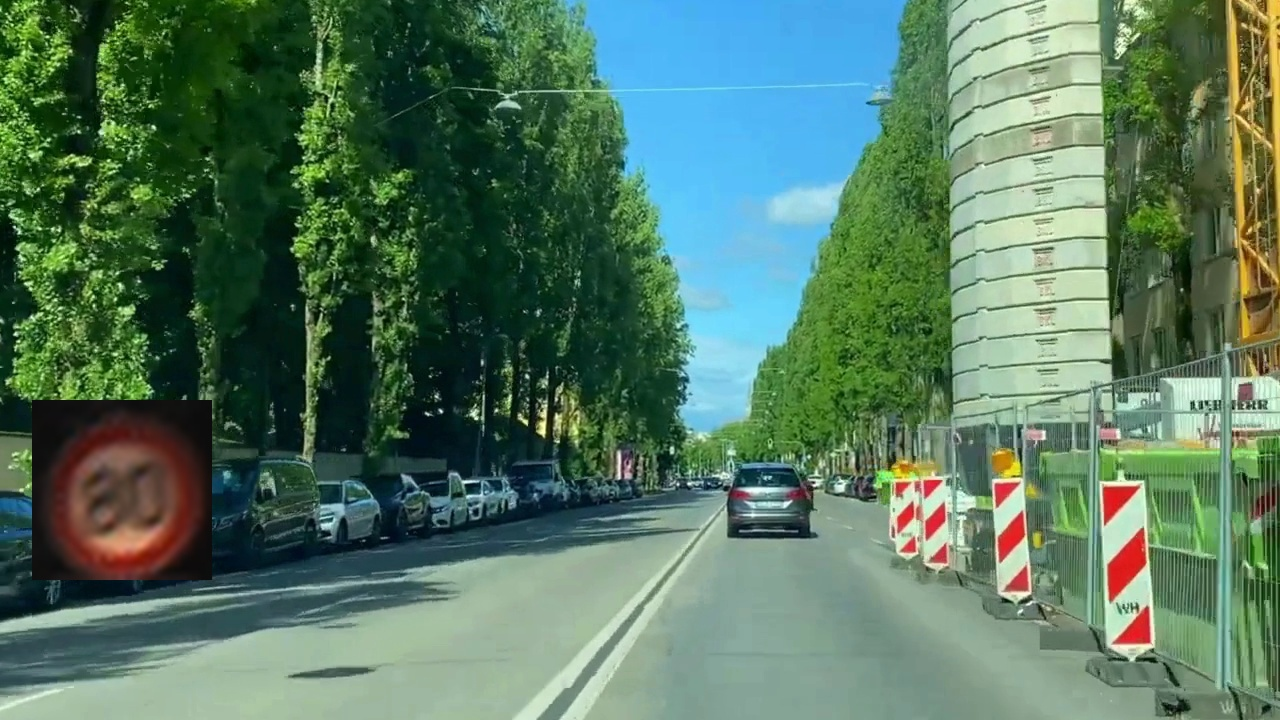Speed 80: (32, 400, 212, 580)
